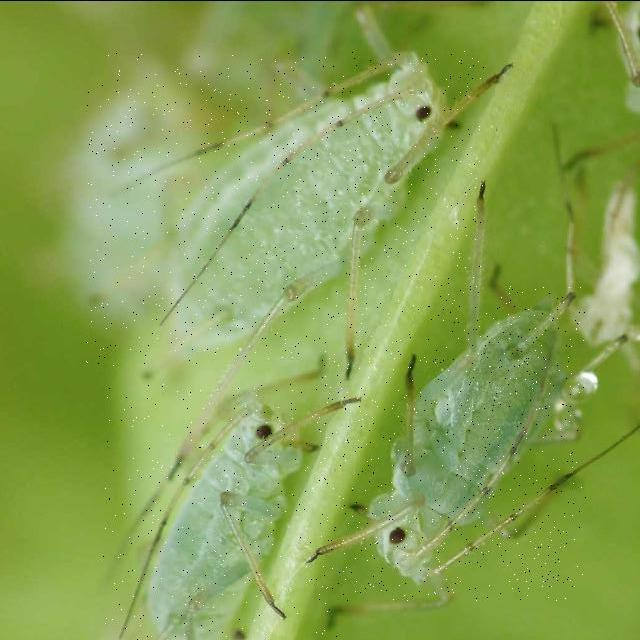aphid: (86, 50, 484, 366), (320, 285, 586, 600), (103, 383, 341, 640)
